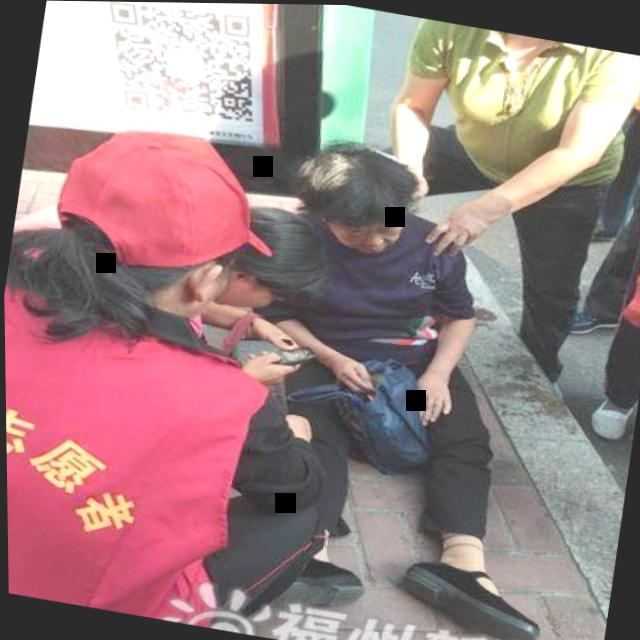Fall-Detected: (186, 117, 618, 640)
